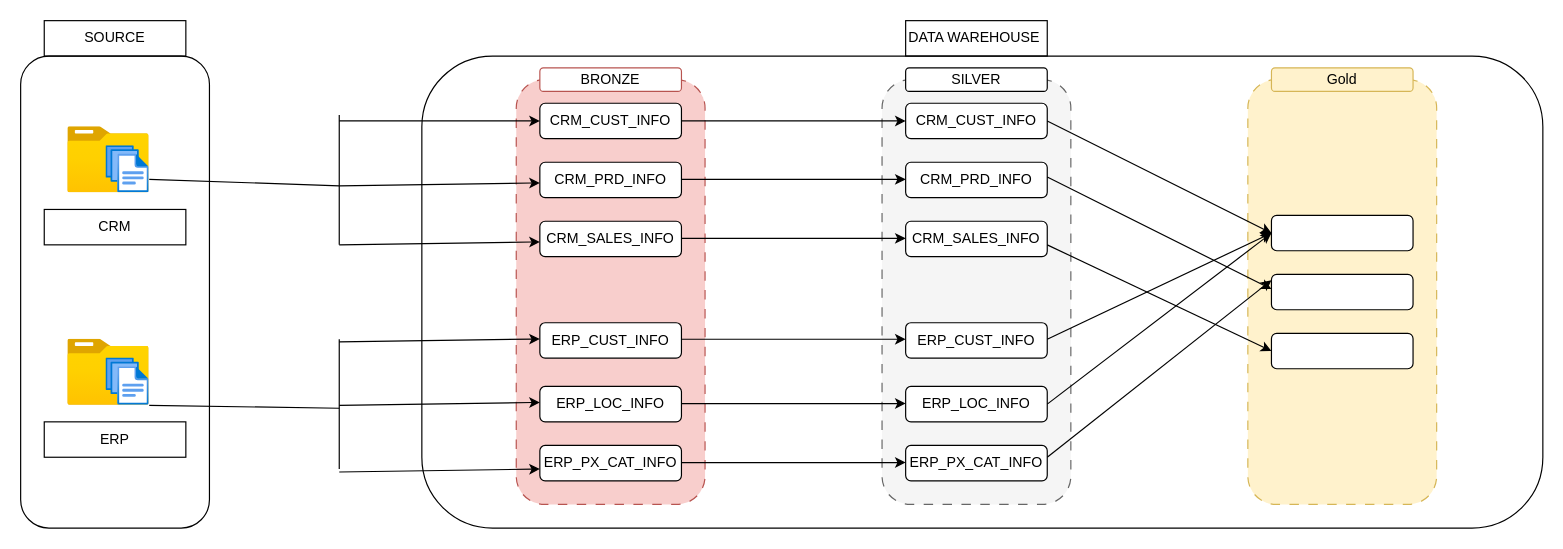
Some shapes in this 1563 by 549 pixel diagram are drawn without their labels. The box of each missing label's shape, as (x1, y1, x2, y2) in pixels:
DIM_CUSTOMERS: (1270, 214, 1413, 251)
DIM_PRODUCTS: (1270, 273, 1413, 310)
FACT_SALES: (1270, 332, 1413, 369)
